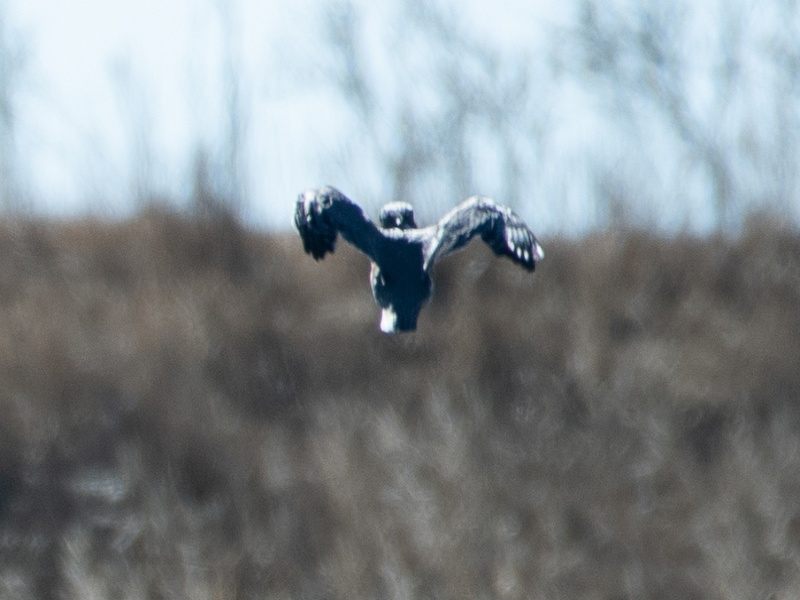kingfisher: (292, 184, 547, 342)
